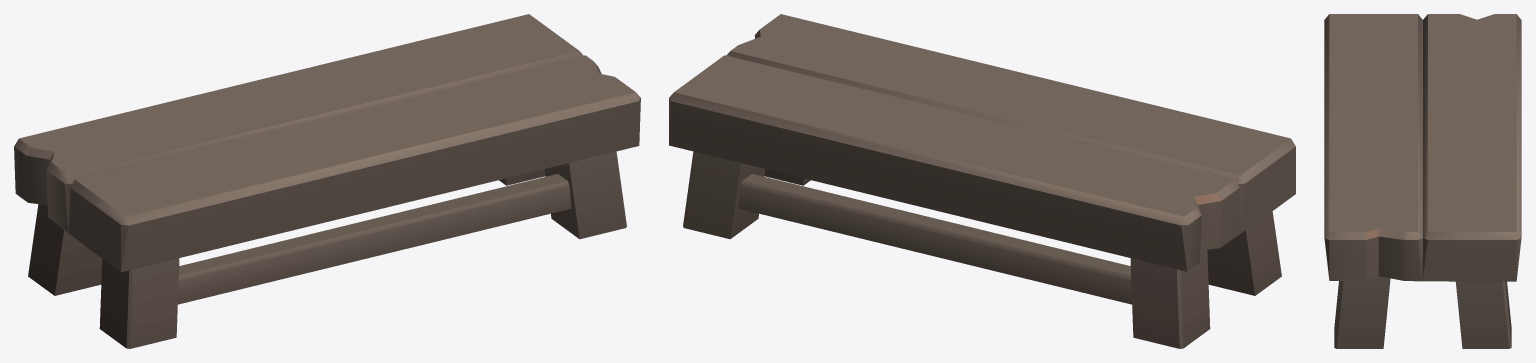
File: bench.glb
3 views of the same model, side by side, from view 1: azimuth 30°, elevation 25°; view 2: azimuth 150°, elevation 25°; view 3: azimuth 270°, elevation 25° (orthographic). The views are drawn at different scales.
Parts seen in each view (by area): view 1: bench; view 2: bench; view 3: bench.
Part boxes in pixels (<box>): bench: <box>14,14,640,348</box>; bench: <box>669,14,1295,348</box>; bench: <box>1324,14,1521,348</box>.
Size of the model in its own units: 2 by 0.5001 by 0.7501.
1 material, 1 textured.
